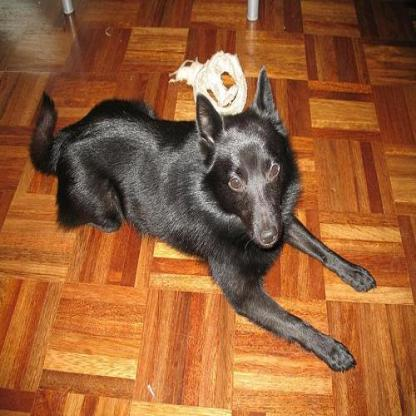schipperke: (26, 64, 378, 368)
